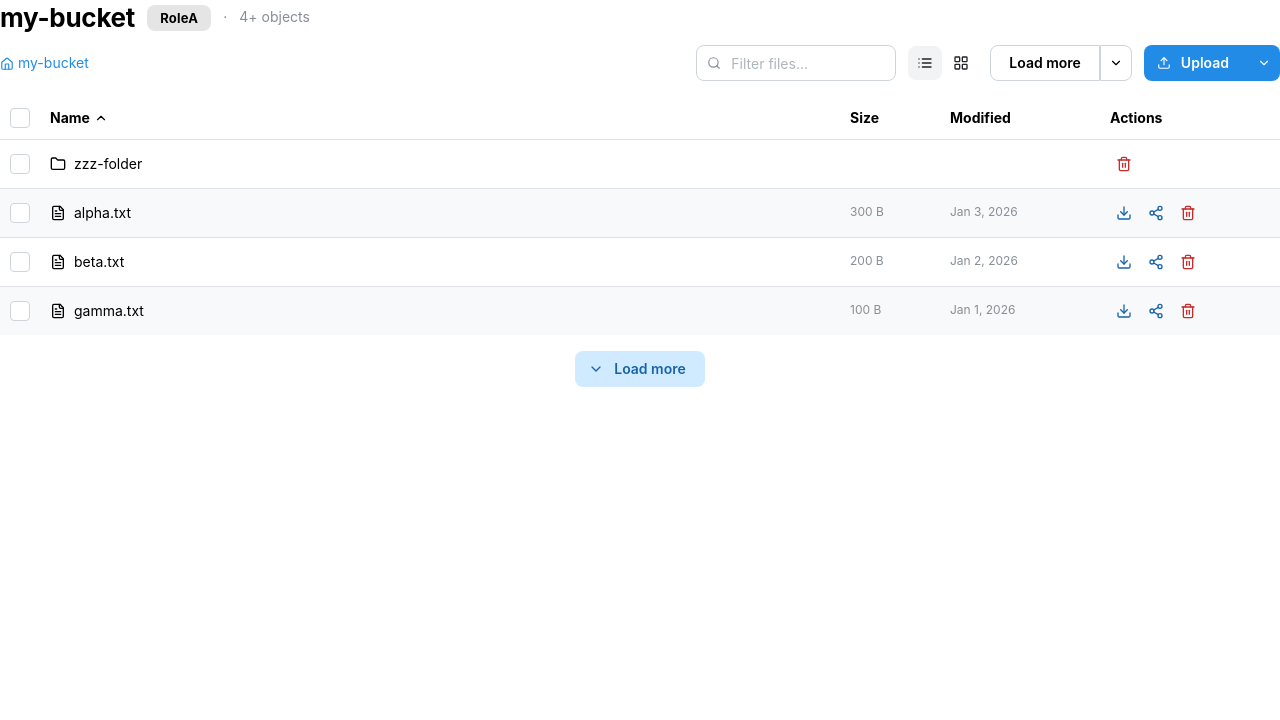
Test: FileBrowser sorting — truncated-level gate › shows an error toast and keeps the prior order when the drain rejects
Click the button with aria-label "Sort by size" at [864, 118], box [850, 107, 879, 129]
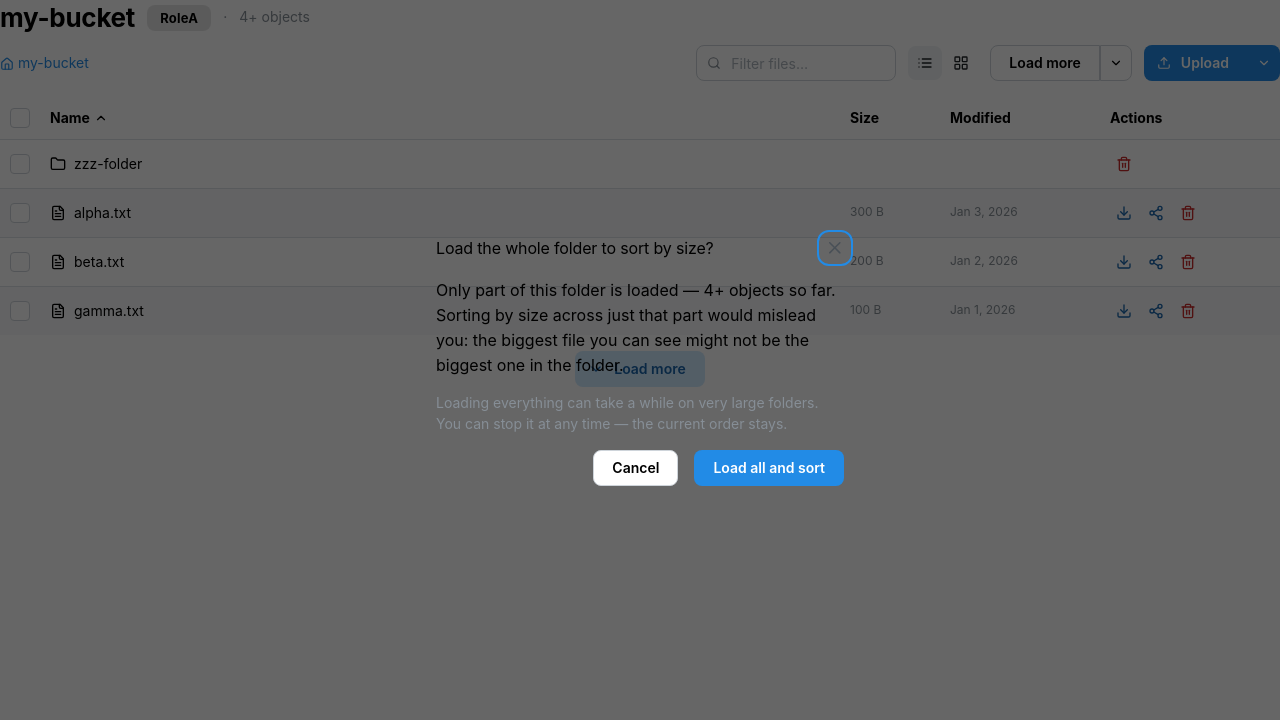
Click the button "Load all and sort" at [769, 468], box [694, 450, 844, 486]
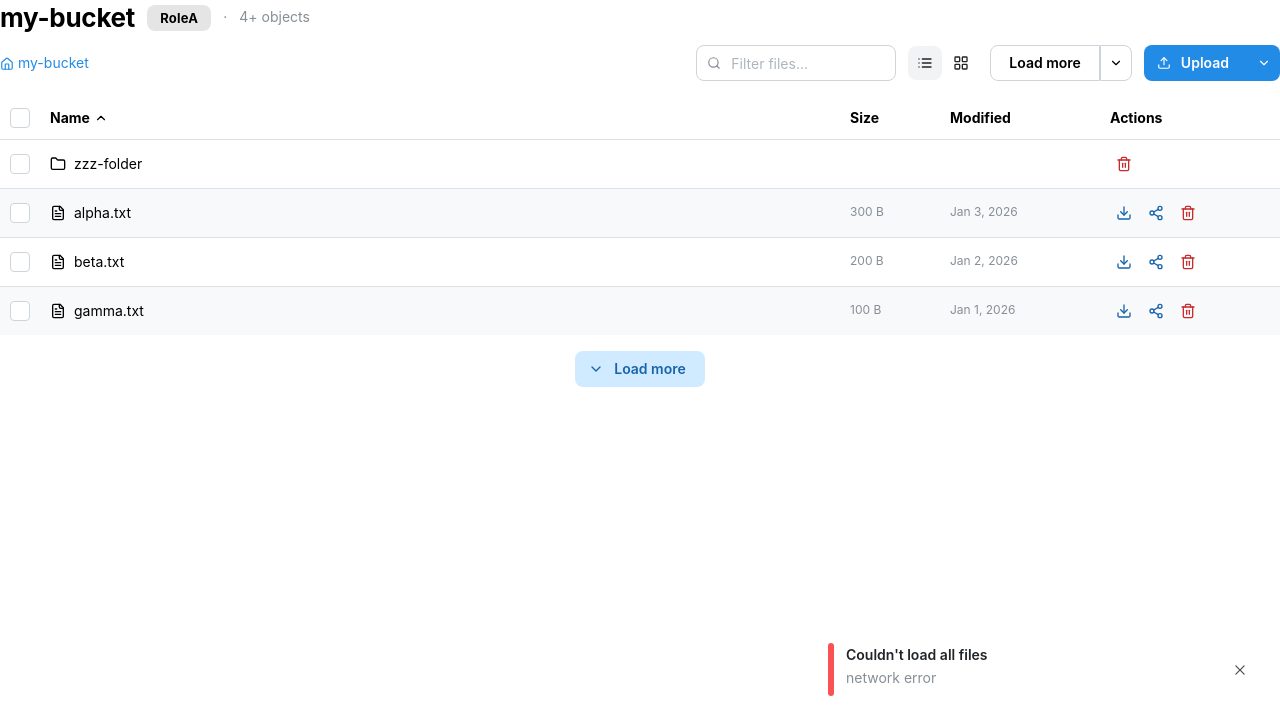
expect the text "Couldn't load all files" is shown: met, box [846, 646, 988, 663]
